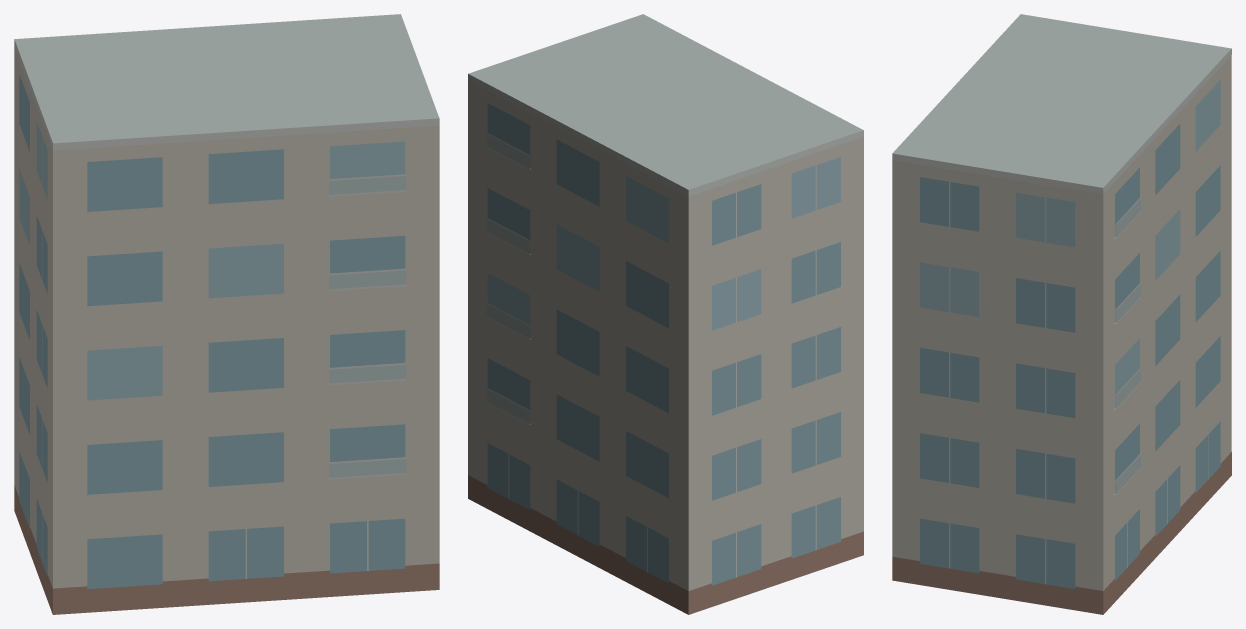
Rendered from survey-upis-32878830.glb.
3 views of the same model, side by side, from view 1: azimuth 30°, elevation 25°; view 2: azimuth 150°, elevation 25°; view 3: azimuth 270°, elevation 25° (orthographic). The views are drawn at different scales.
Visible parts, largest first — view 1: survey-upis-32878830.tmp; view 2: survey-upis-32878830.tmp; view 3: survey-upis-32878830.tmp.
Boxes of the visible parts, bbox=[...] form: survey-upis-32878830.tmp: bbox=[14, 14, 439, 614]; survey-upis-32878830.tmp: bbox=[468, 14, 863, 614]; survey-upis-32878830.tmp: bbox=[892, 14, 1231, 614].
Bounding box in the file's own units: 14.07 × 16.1 × 11.61.
